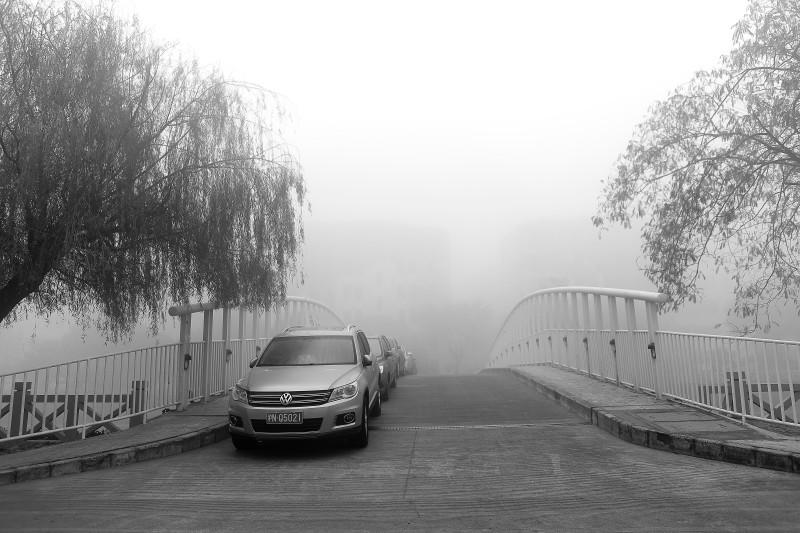car: (224, 322, 381, 458), (302, 333, 397, 402), (335, 331, 405, 380)
